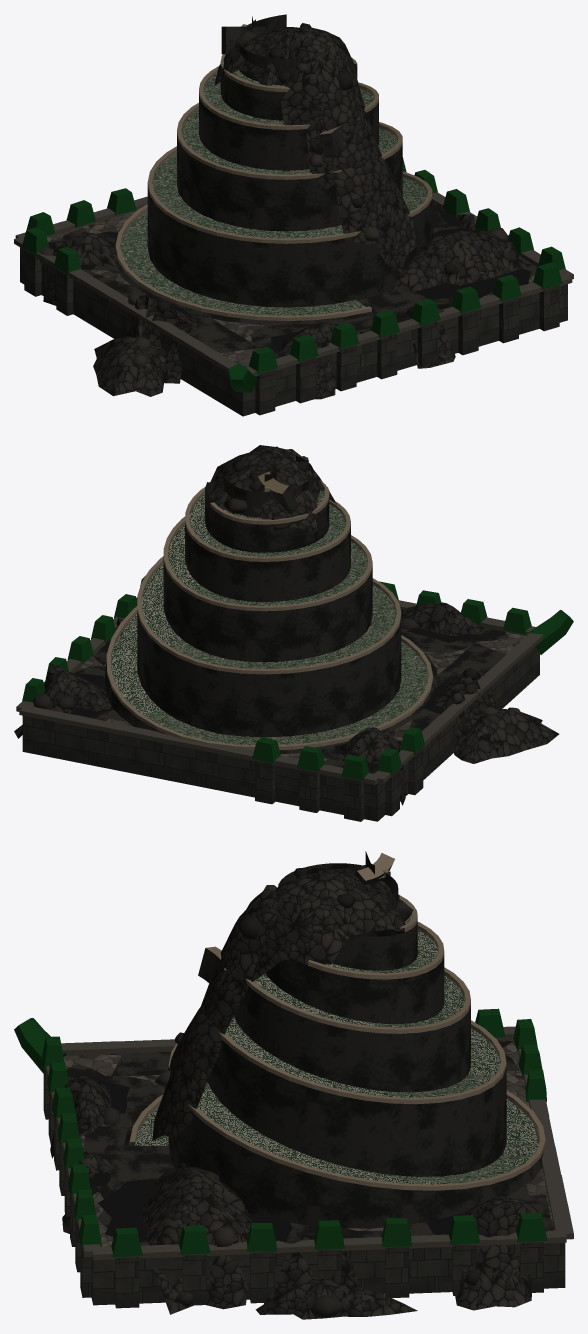
Rendered from Tarbuild01a.glb.
The picture shows the model from 3 angles, top to bottom: view 1: azimuth 30°, elevation 25°; view 2: azimuth 150°, elevation 25°; view 3: azimuth 270°, elevation 25°; orthographic projection. The views are drawn at different scales.
Parts seen in each view (by area): view 1: Tarbuild01a; view 2: Tarbuild01a; view 3: Tarbuild01a.
Boxes of the visible parts, x1=… form: Tarbuild01a: x1=14, y1=14, x2=573, y2=416; Tarbuild01a: x1=14, y1=445, x2=573, y2=821; Tarbuild01a: x1=14, y1=851, x2=573, y2=1319.
Size of the model in its own units: 18.46 by 11.08 by 16.66.
14 materials, 7 textured.
